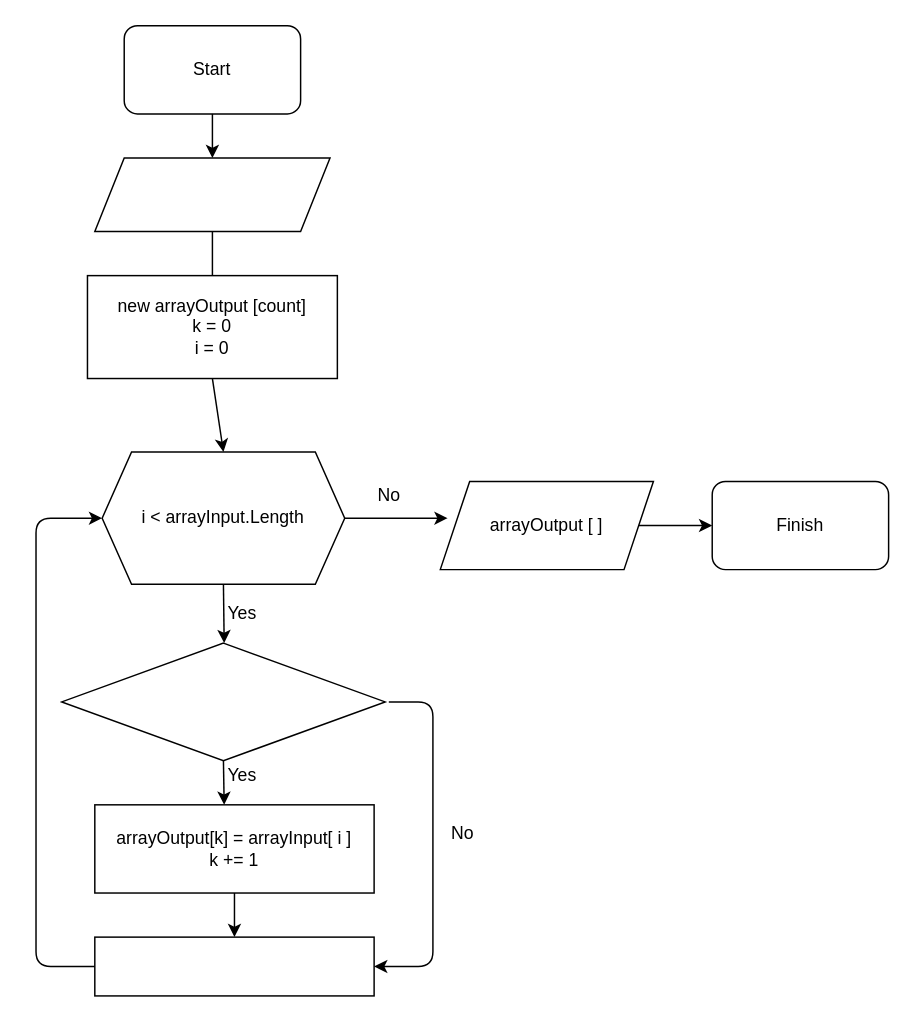
This 914x1022 diagram has some shape labels left out. The shapes that lost their labels are listed below. From the top down, each one's centre as x and y in pixels, then its label:
At point (211, 194): "count arrayInput [ ]".
At point (222, 701): "arrayInput[ i ].Length <= 3".
At point (233, 966): "i += 1".
